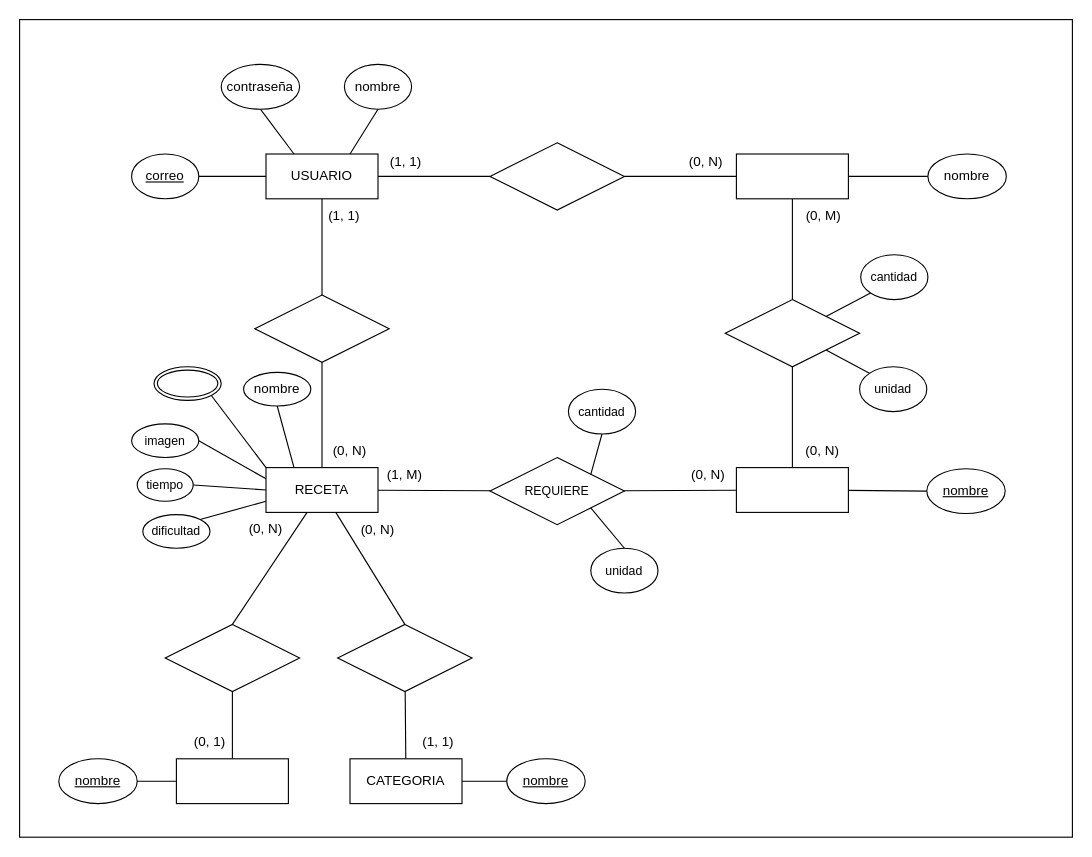
Image size: 1092x857. Some labels were removed from this diagram. Here are the shapes that lost their labels. From the top down, the centre of each, then its label:
pixel 556 176: TIENE
pixel 791 176: NEVERA
pixel 321 328: CREA
pixel 792 332: ALMACENA
pixel 187 383: pasos
pixel 791 489: INGREDIENTE
pixel 232 657: PROCEDE DE
pixel 404 657: PERTENECE A
pixel 231 781: AREA
